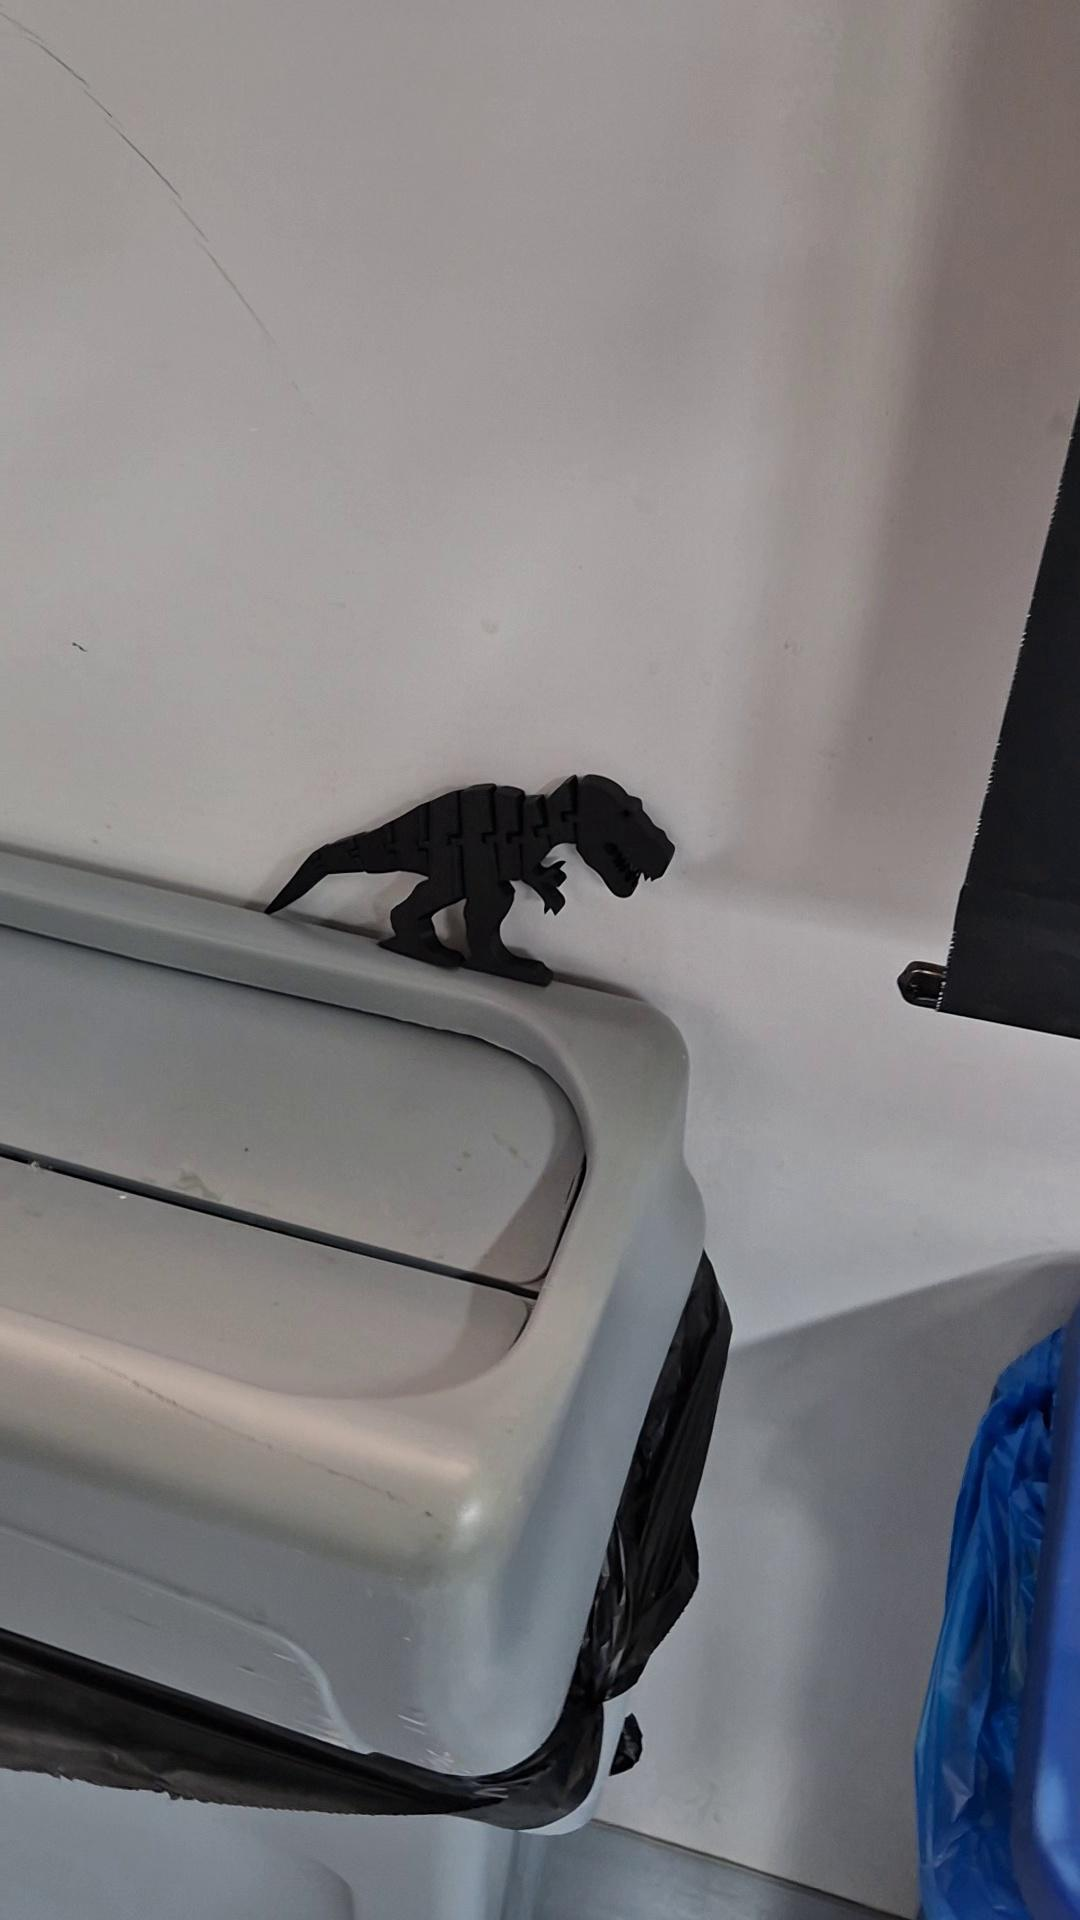dinosaur: (262, 773, 676, 989)
